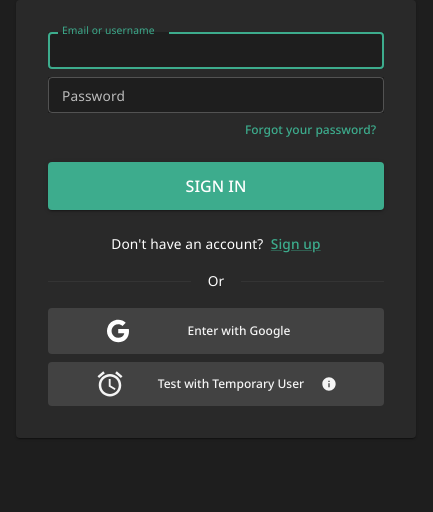
it: should render a 'SIGN UP' button when you click on 'sign up'
This screenshot has width=433, height=512.
Click the link "Sign up".
click(296, 245)  # box [271,234,321,255]
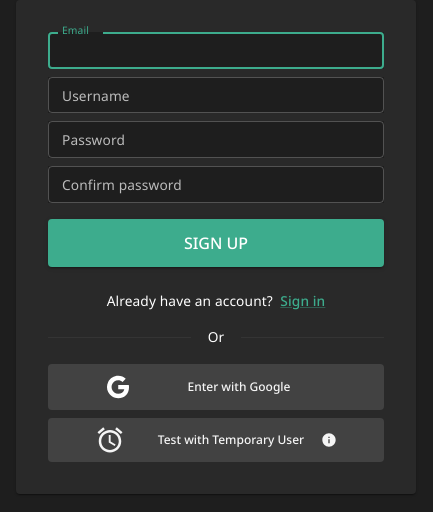
Result: the button "SIGN UP" is shown at [48,219,384,267]
